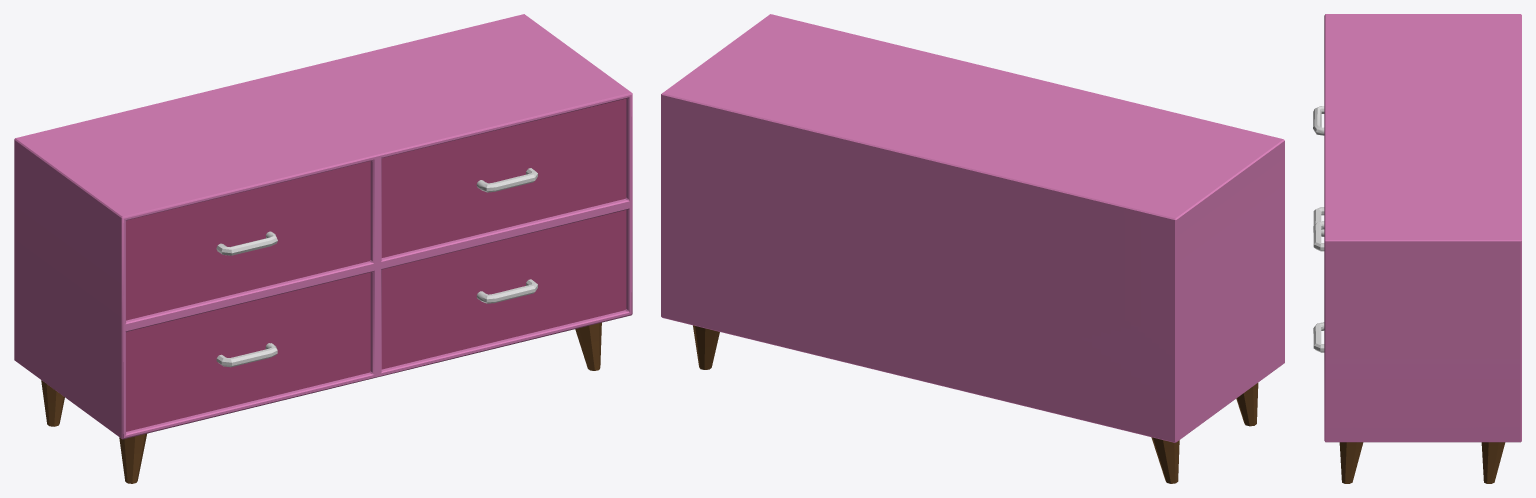
Rendered from Cabinets.fbx.
The picture shows the model from 3 angles, left to right: view 1: azimuth 30°, elevation 25°; view 2: azimuth 150°, elevation 25°; view 3: azimuth 270°, elevation 25°; orthographic projection. The views are drawn at different scales.
Parts seen in each view (by area): view 1: Cabinets; view 2: Cabinets; view 3: Cabinets.
Boxes of the visible parts, x1,y1,x2,y2 form: Cabinets: (14, 14, 632, 483); Cabinets: (661, 14, 1284, 483); Cabinets: (1313, 14, 1521, 483).
Size of the model in its own units: 142 by 73.65 by 55.03.
